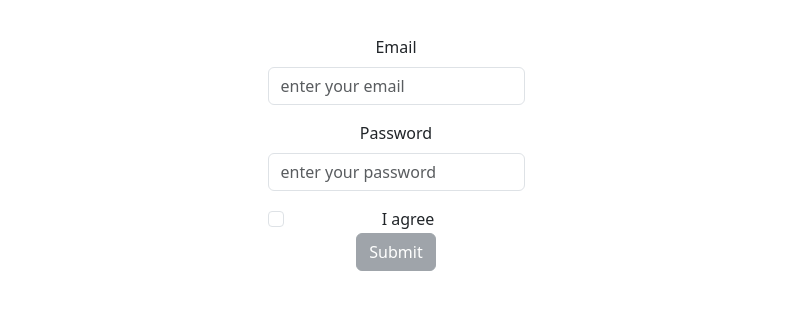
it: template spec › email & password validation works successfully
The width and height of the screenshot is (793, 313).
Type "john.doeexample.com" into the field with test id "email".
click(397, 86); type("john.doeexample.com")  # box [268,67,525,105]
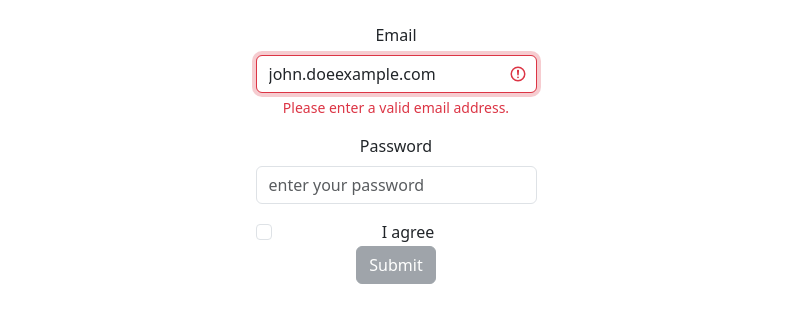
Type "123" into the password field with test id "password".
click(397, 185); type("123")  # box [256,166,537,204]
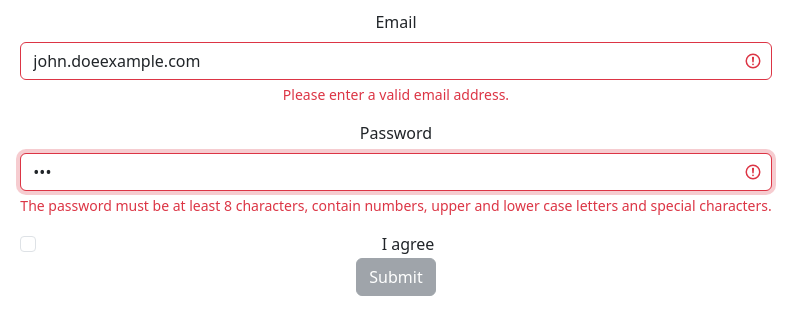
Now the text with test id "passwordValidation" shows "The password must be at least 8 characters, contain numbers, upper and lower case letters and special characters.", box [20,196,771,215]
